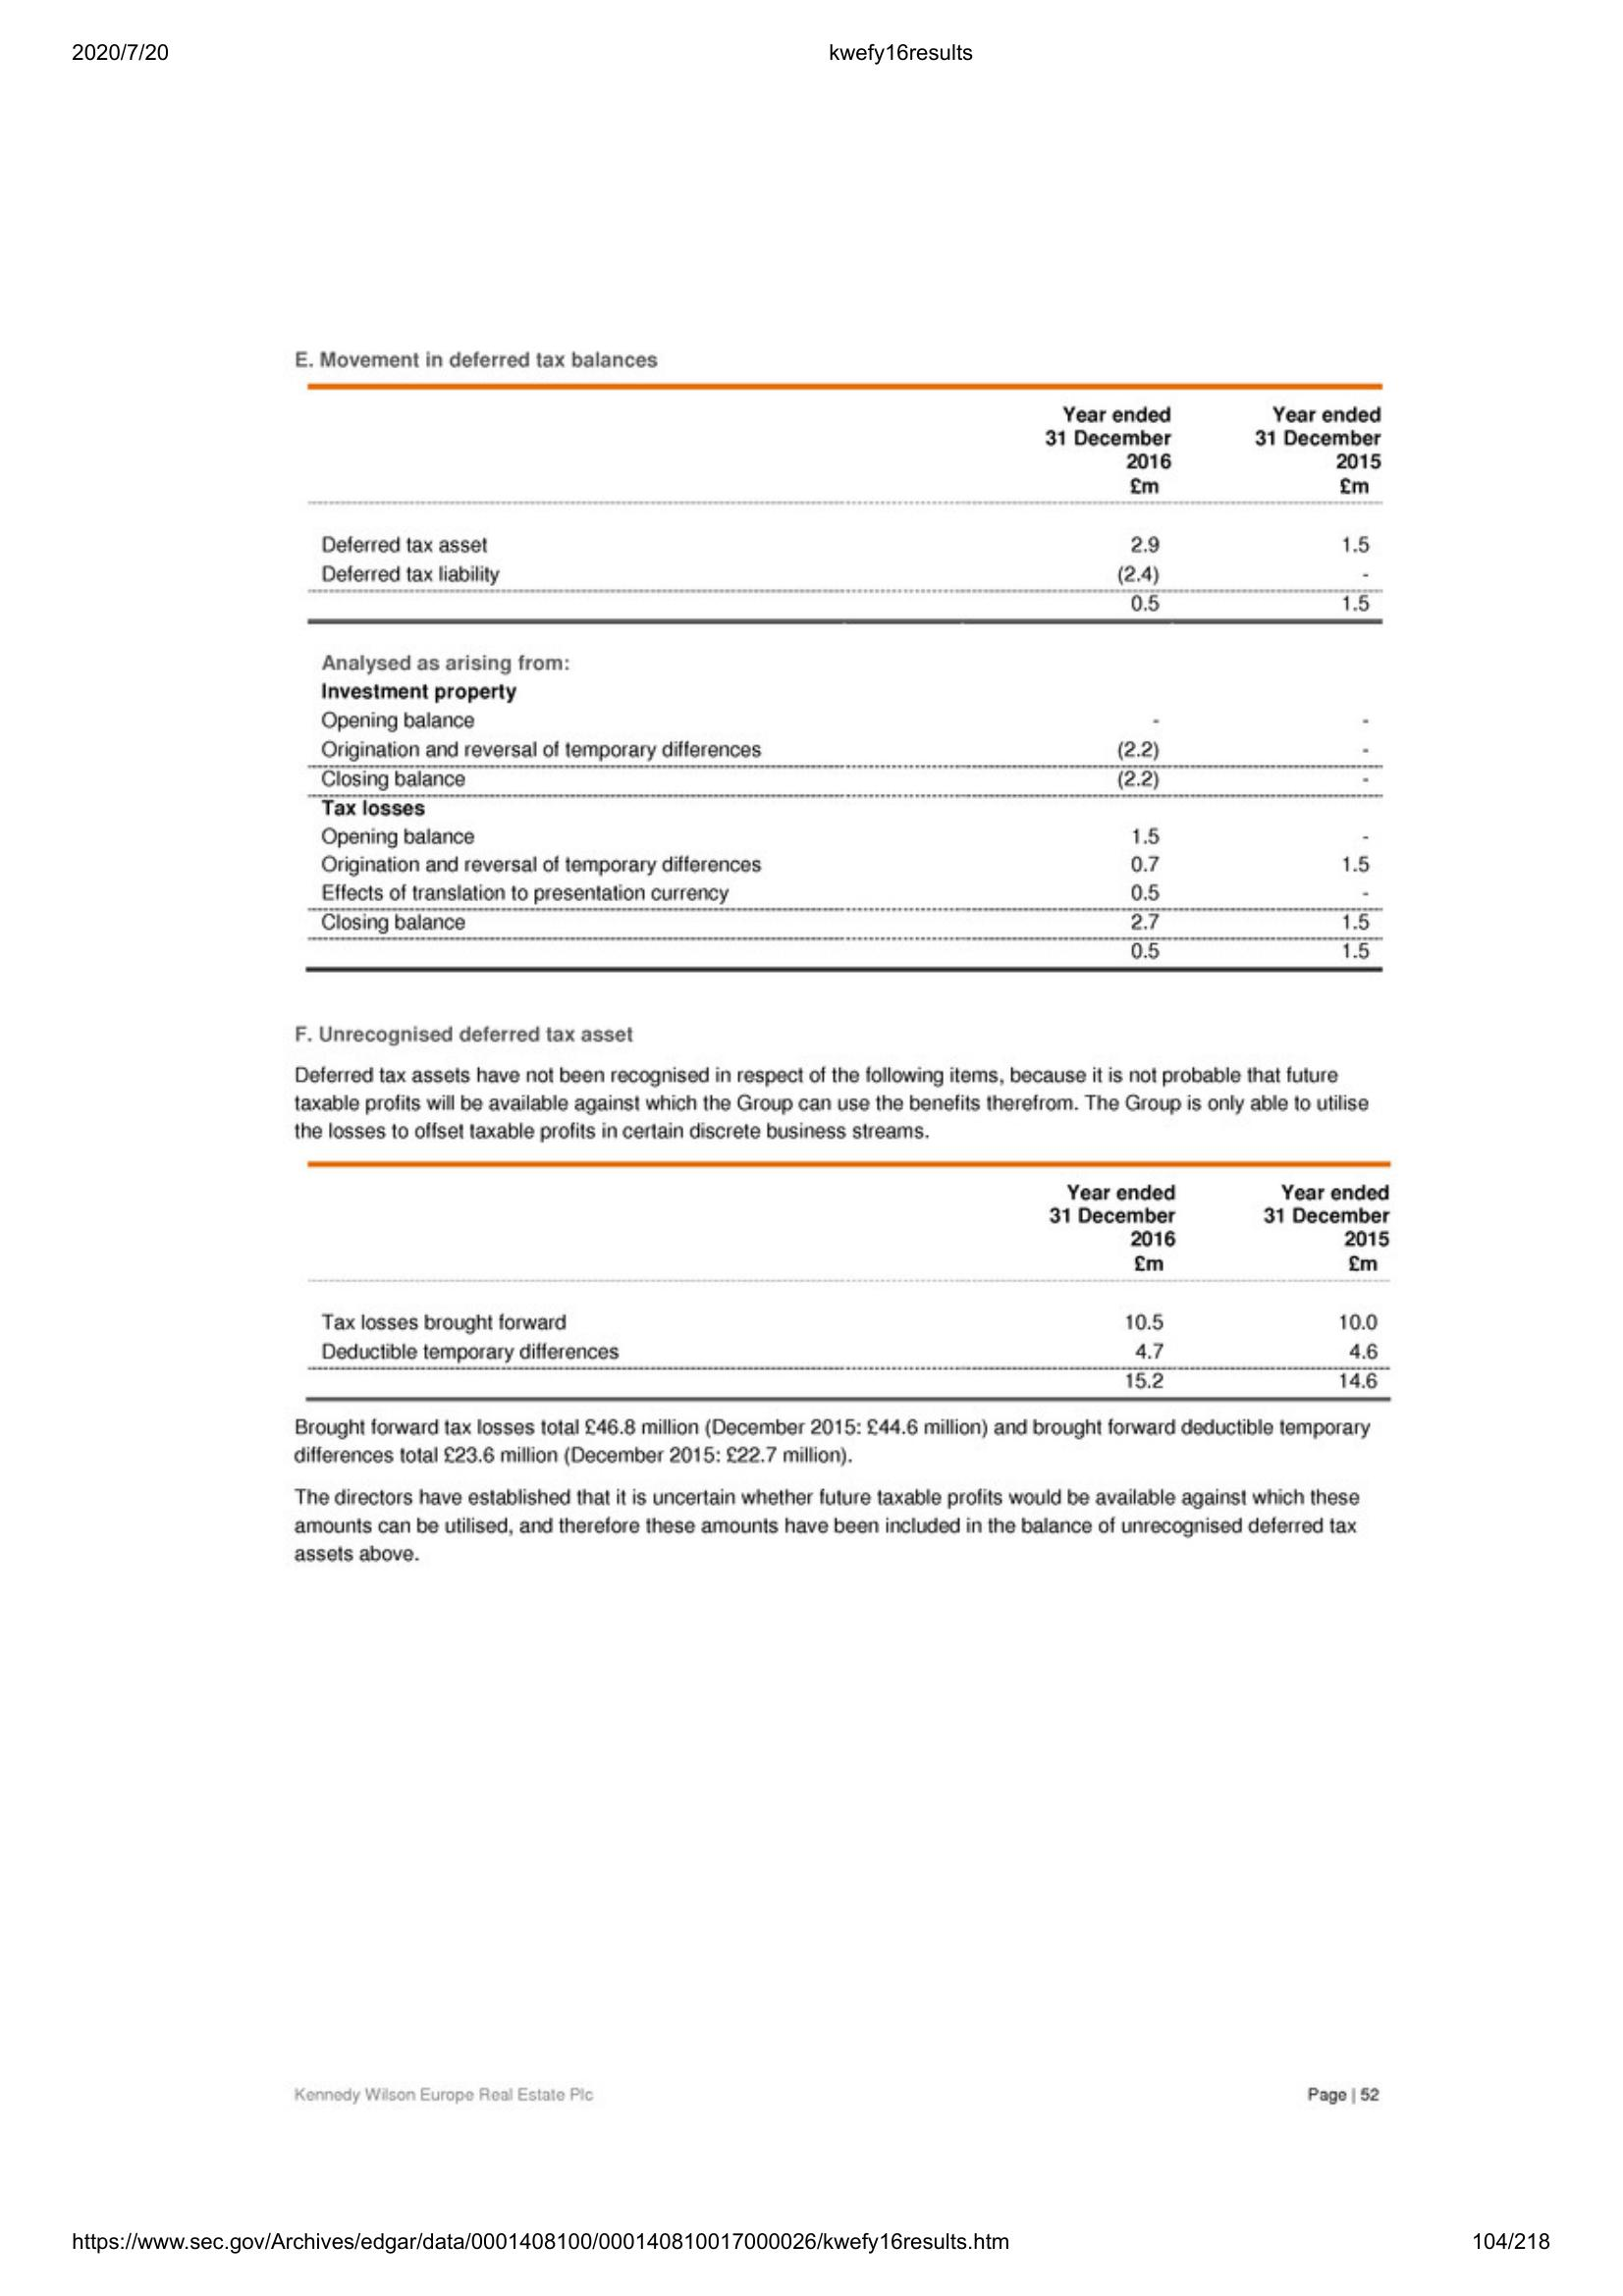table: (299, 377, 1386, 976), (299, 1153, 1403, 1410)
